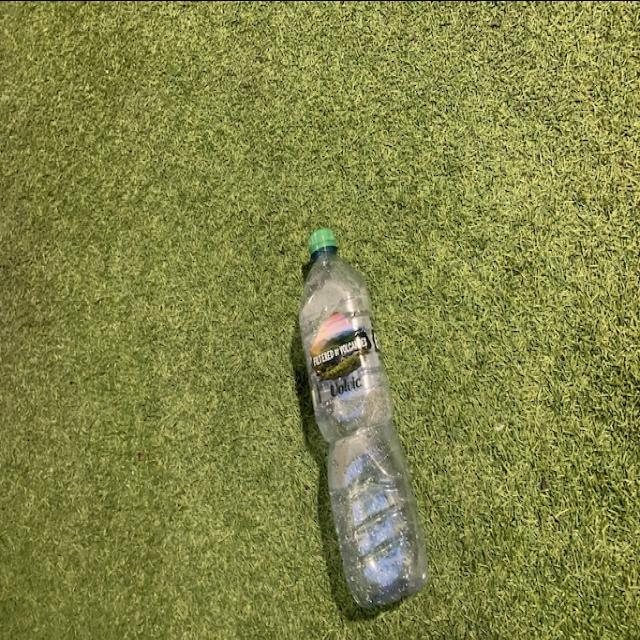litter: (297, 225, 431, 615)
